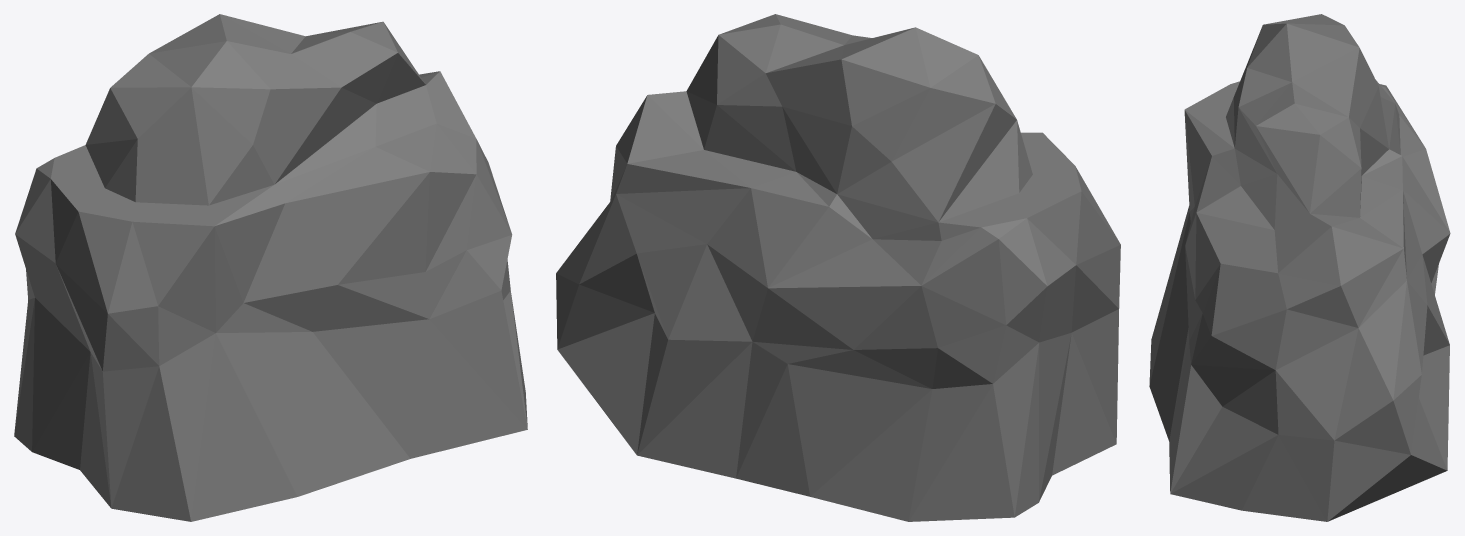
File: Stone_1.fbx
3 views of the same model, side by side, from view 1: azimuth 30°, elevation 25°; view 2: azimuth 150°, elevation 25°; view 3: azimuth 270°, elevation 25° (orthographic). The views are drawn at different scales.
Parts seen in each view (by area): view 1: Stone_1; view 2: Stone_1; view 3: Stone_1.
Part boxes in pixels (left/top/right/bottom): Stone_1: left=14, top=14, right=527, bottom=521; Stone_1: left=556, top=14, right=1120, bottom=521; Stone_1: left=1149, top=14, right=1450, bottom=521.
Bounding box in the file's own units: 5.26 × 4.28 × 3.2.
